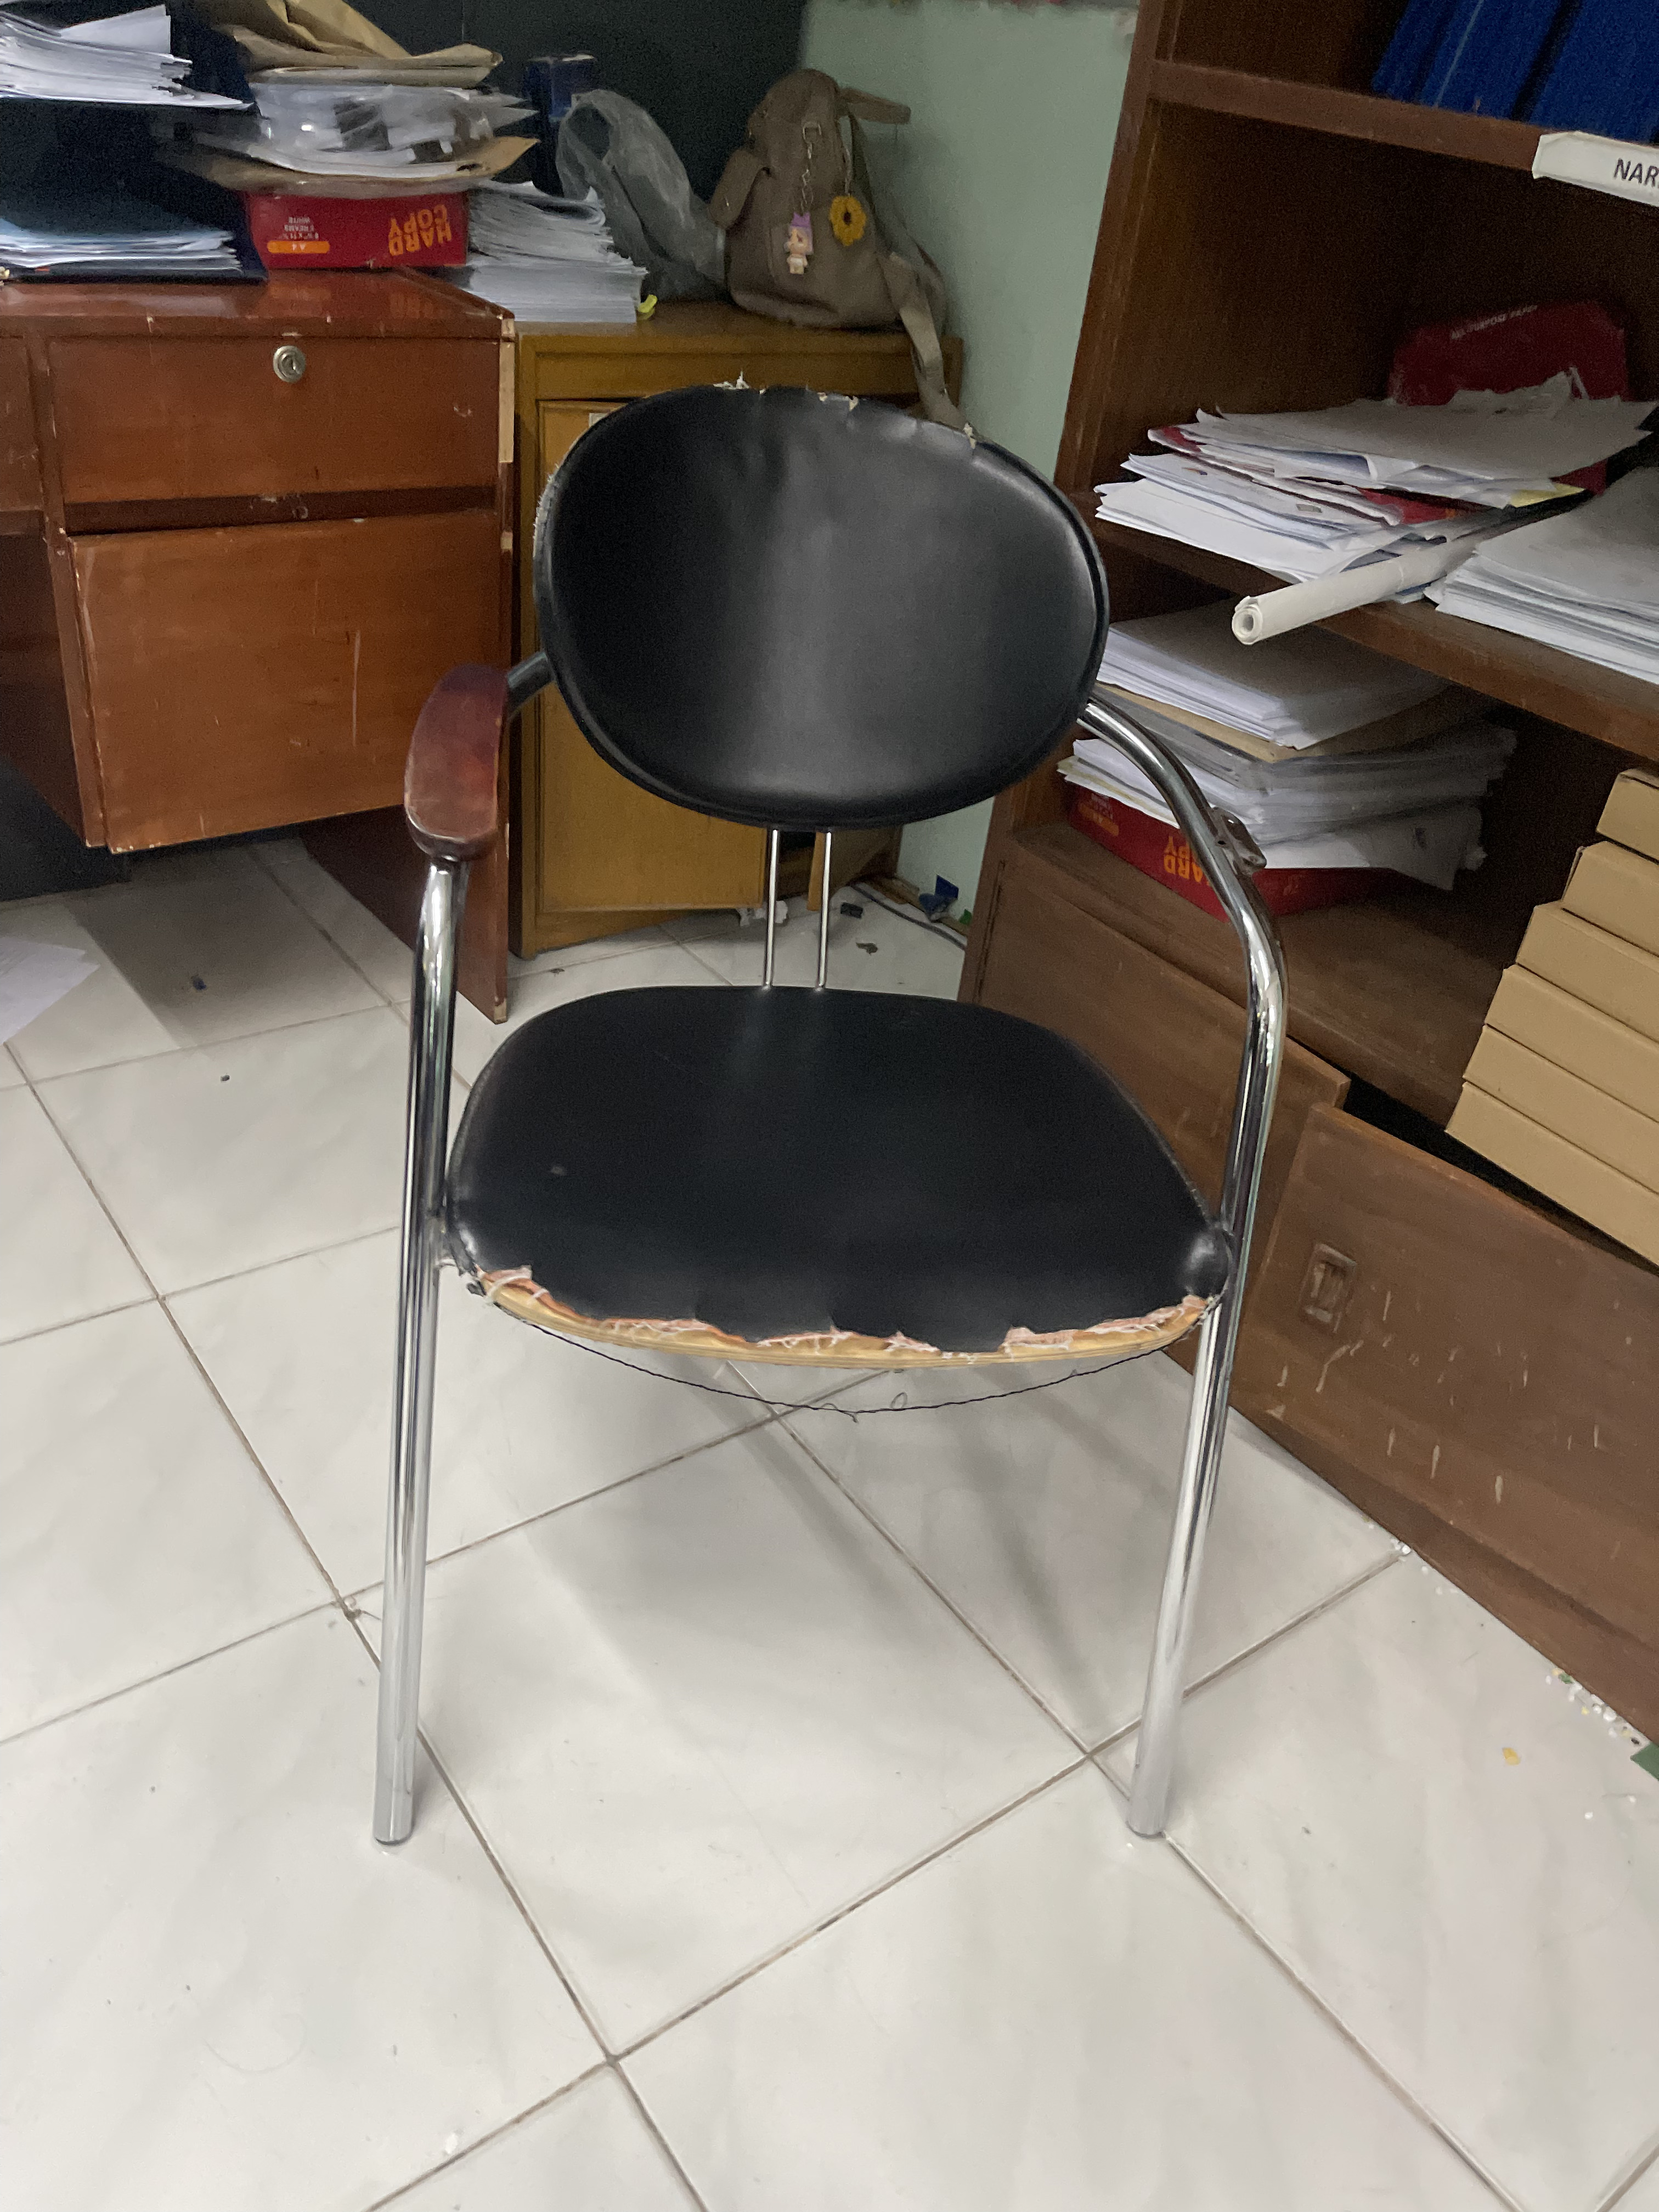chair1: (364, 381, 1295, 1881)
